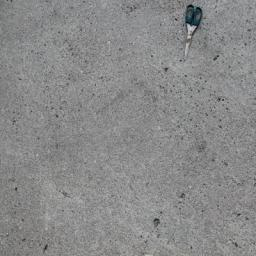FOD: (183, 3, 204, 64)
